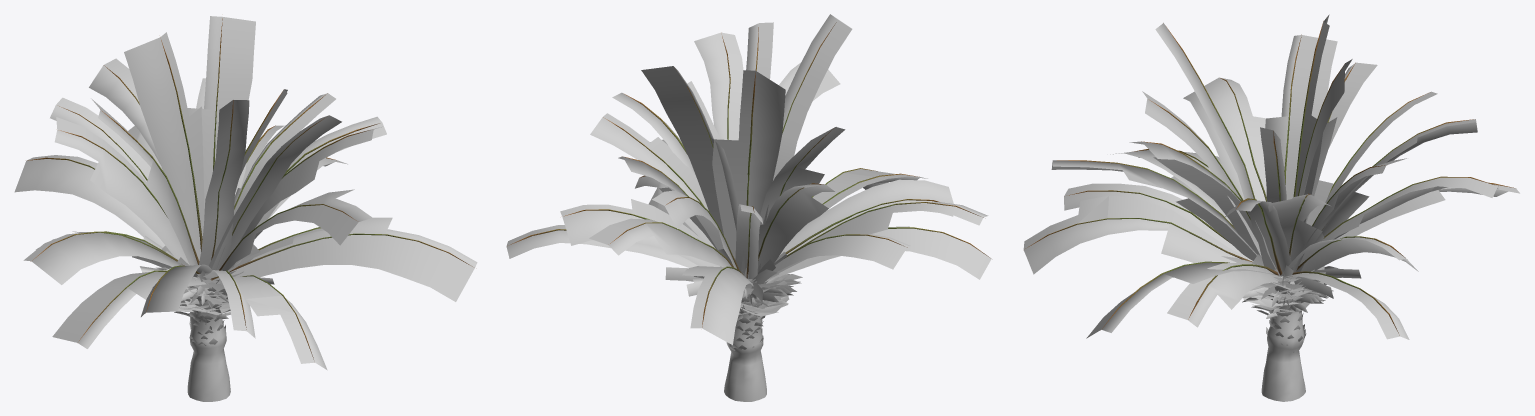
The model's file is Plant3_2_L1.fbx.
3 renders of one model, left to right at view 1: azimuth 30°, elevation 25°; view 2: azimuth 150°, elevation 25°; view 3: azimuth 270°, elevation 25°, orthographic. The views are drawn at different scales.
Parts seen in each view (by area): view 1: polySurface26; view 2: polySurface26; view 3: polySurface26.
Boxes of the visible parts, x1=… form: polySurface26: x1=14, y1=16, x2=477, y2=401; polySurface26: x1=506, y1=14, x2=991, y2=401; polySurface26: x1=1023, y1=14, x2=1519, y2=401.
Bounding box in the file's own units: 630 × 524 × 661.
